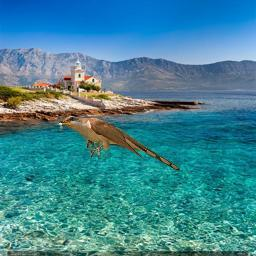Cuckoo: (55, 115, 181, 171)
